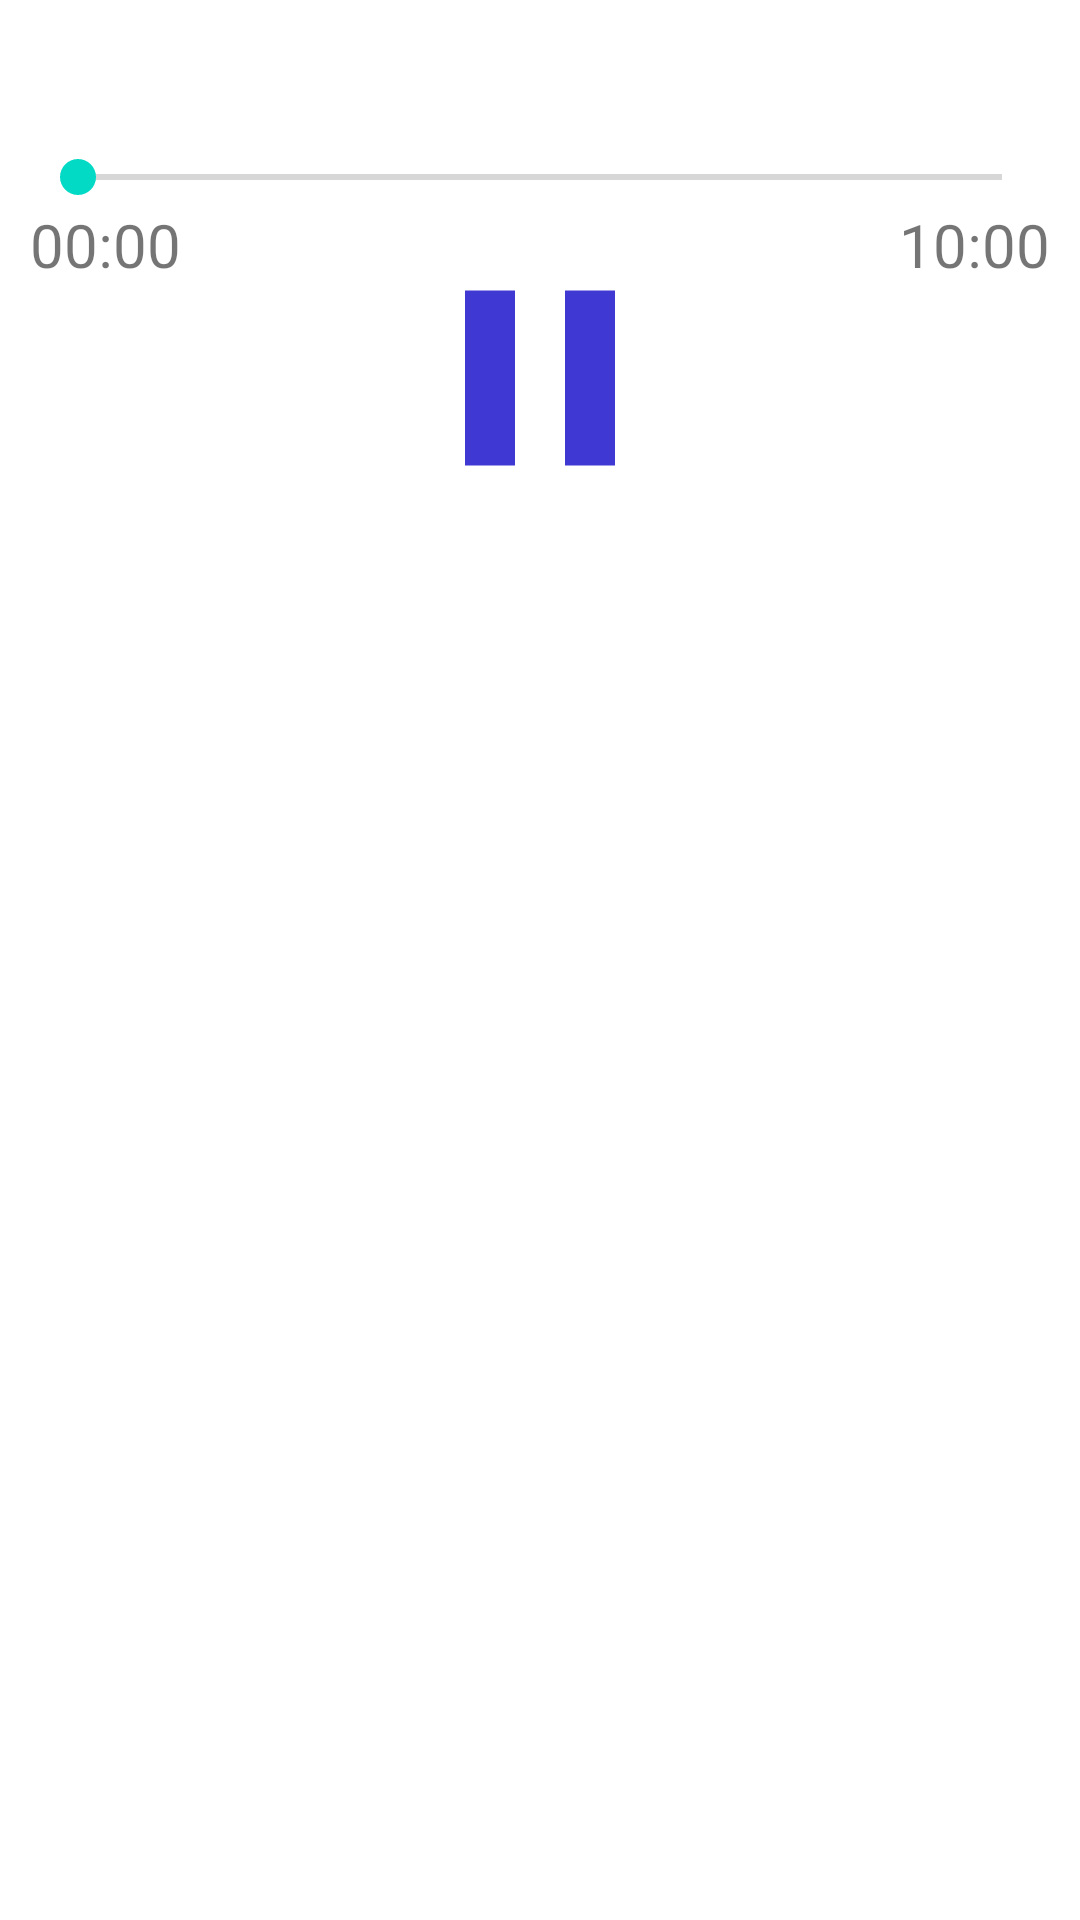

Point at icon controls on the screen. Image size 1080 × 1920, points as (x=x, y=y).
pause: (x=540, y=378)
